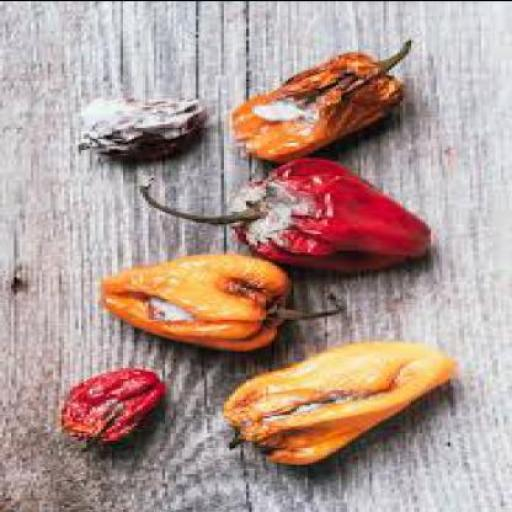biodegradable: (137, 152, 434, 270), (218, 338, 454, 462), (227, 37, 417, 160), (96, 254, 342, 348), (73, 94, 204, 160), (56, 367, 159, 450)
